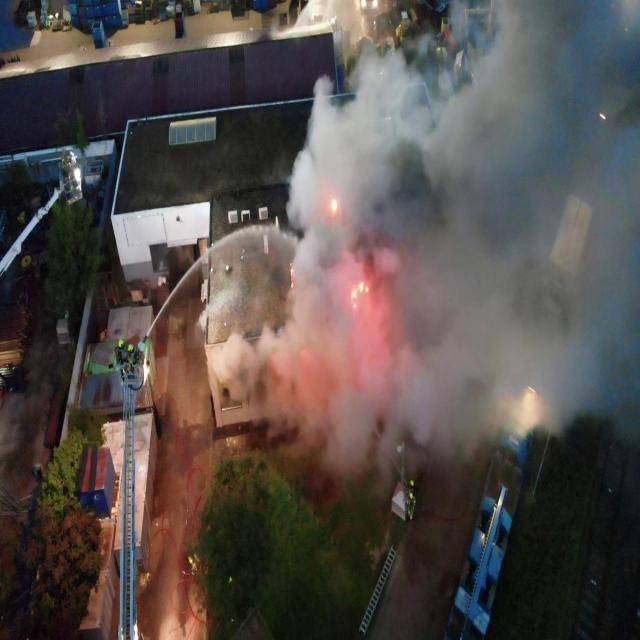Fire: (351, 280, 368, 310), (290, 262, 294, 288), (330, 201, 337, 211)
Smoke: (195, 0, 640, 488)
